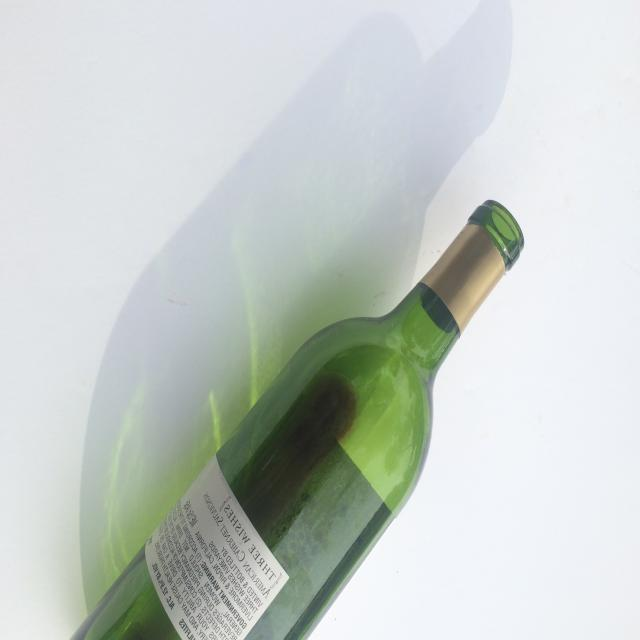glass: (58, 197, 524, 640)
